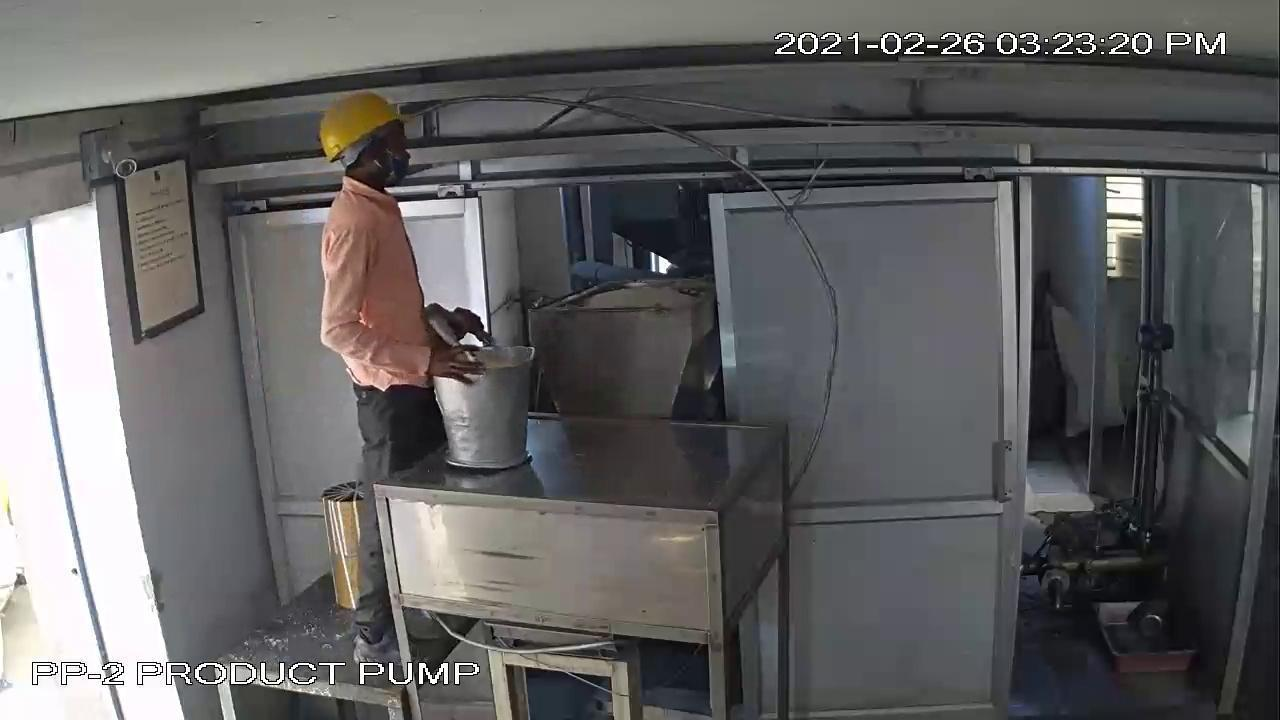helmet: (304, 92, 426, 158)
